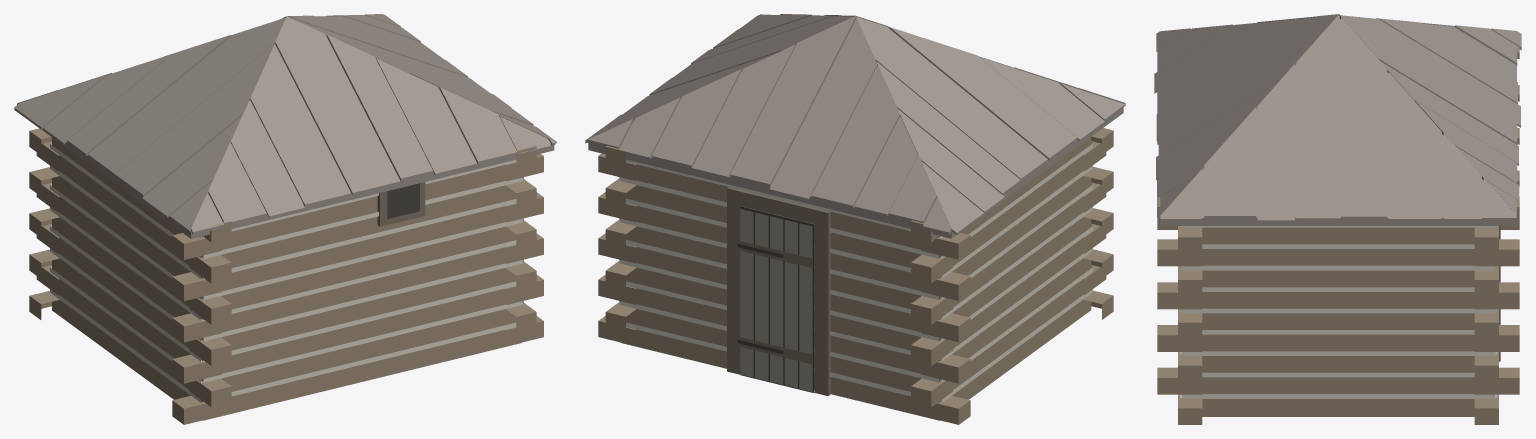
The model's file is first_fort_dearborn_small_house_ne__first_fort_1803.glb.
3 views of the same model, side by side, from view 1: azimuth 30°, elevation 25°; view 2: azimuth 150°, elevation 25°; view 3: azimuth 270°, elevation 25° (orthographic). The views are drawn at different scales.
Visible parts, largest first — view 1: first_fort_dearborn_small_house_ne__first_fort_1803; view 2: first_fort_dearborn_small_house_ne__first_fort_1803; view 3: first_fort_dearborn_small_house_ne__first_fort_1803.
Part boxes in pixels (x1=…): first_fort_dearborn_small_house_ne__first_fort_1803: x1=14, y1=14, x2=556, y2=424; first_fort_dearborn_small_house_ne__first_fort_1803: x1=585, y1=14, x2=1125, y2=424; first_fort_dearborn_small_house_ne__first_fort_1803: x1=1154, y1=14, x2=1521, y2=424.
Bounding box in the file's own units: 4.34 × 3.46 × 3.58.
